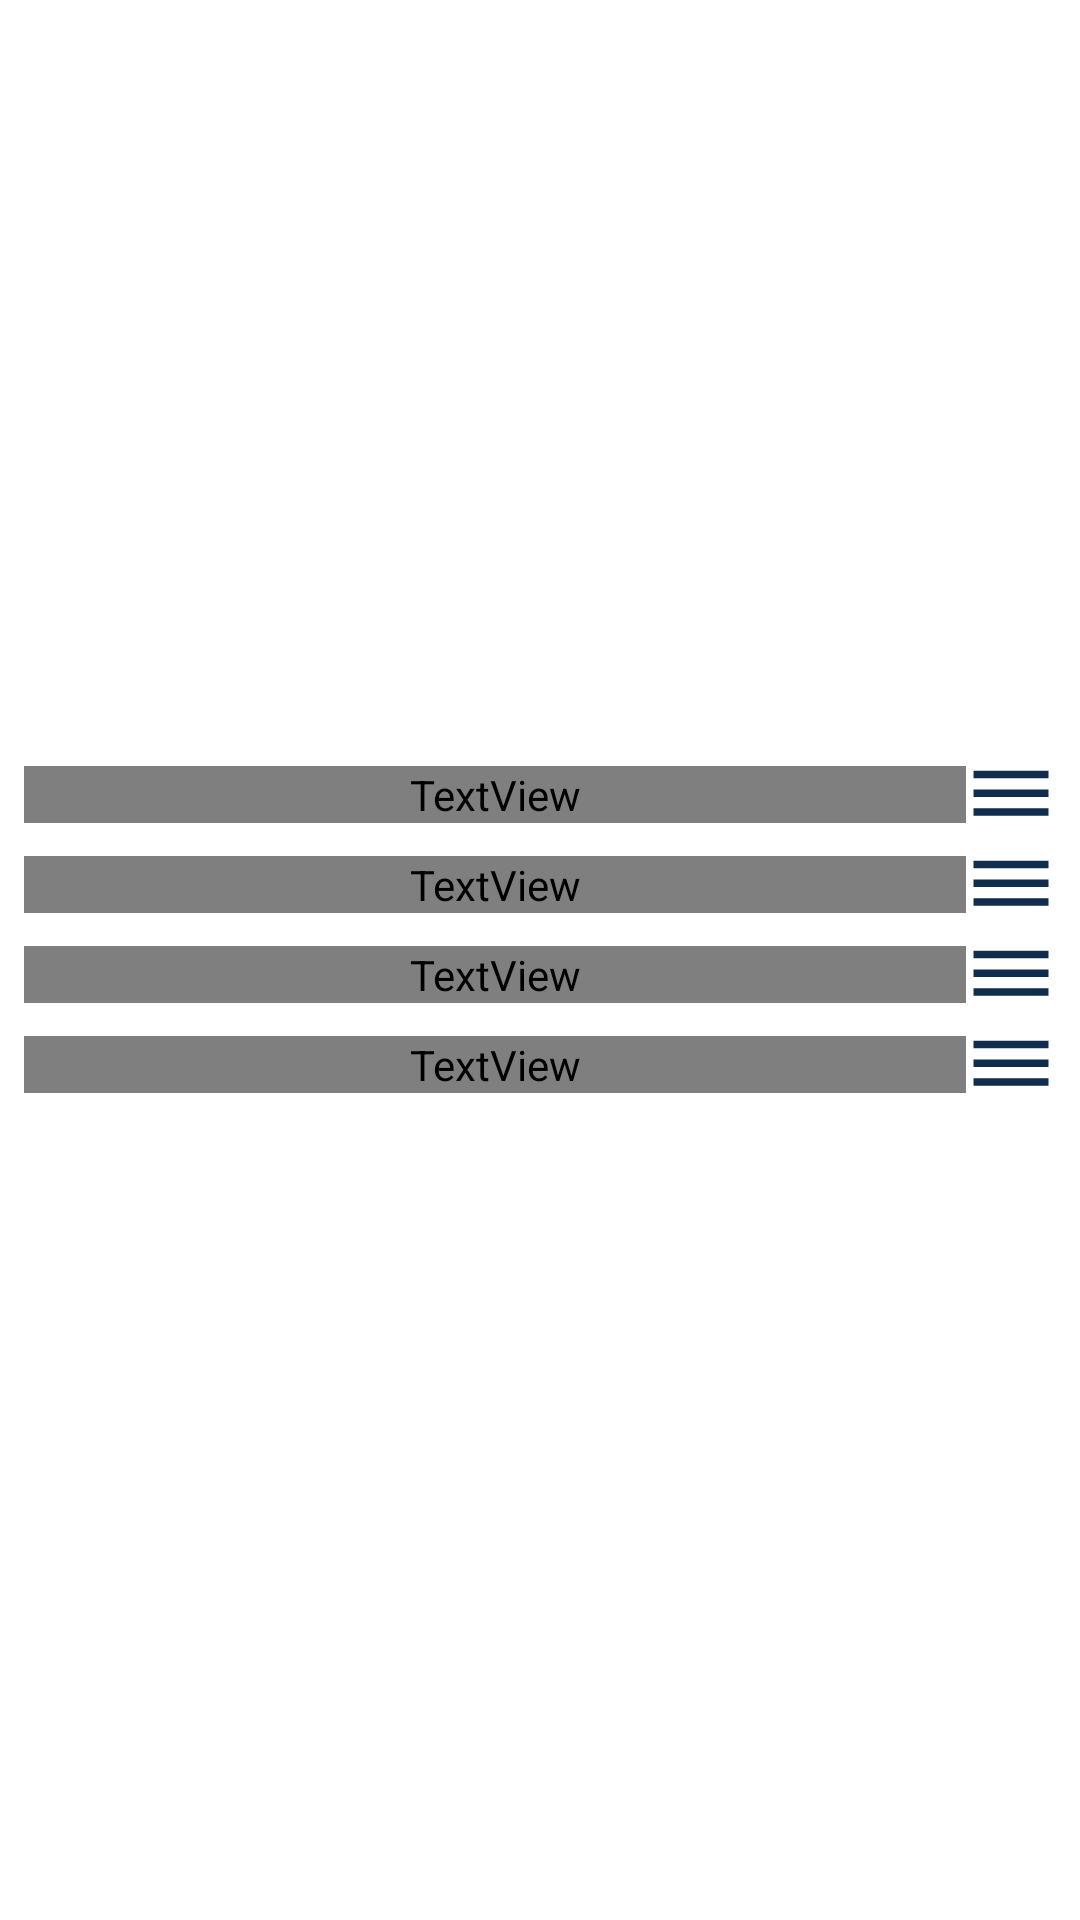

Icon bounding boxes for this 1080 × 1920 phone screenshot, format (x1, y1, x2, y2):
more: (973, 770, 1049, 816), (973, 860, 1049, 906), (973, 950, 1049, 996), (973, 1040, 1049, 1086)
